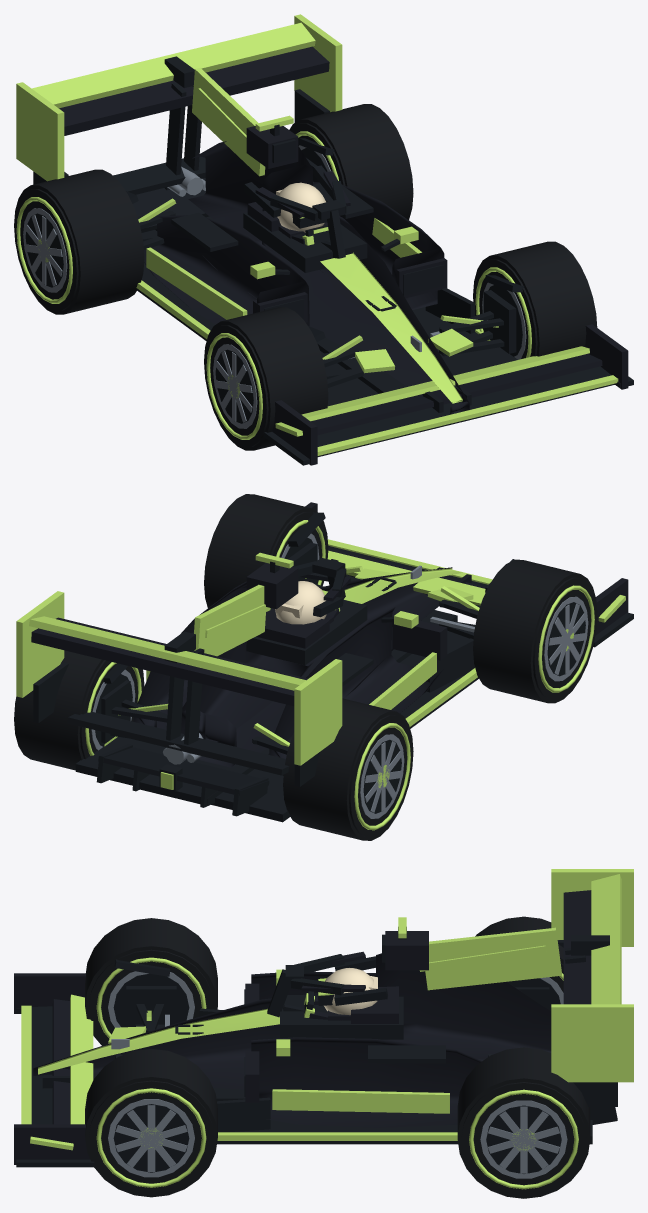
The model's file is baxter-00.glb.
The picture shows the model from 3 angles, top to bottom: view 1: azimuth 30°, elevation 25°; view 2: azimuth 150°, elevation 25°; view 3: azimuth 270°, elevation 25°; orthographic projection.
Parts seen in each view (by area): view 1: formula-0, wheel (×4); view 2: formula-0, wheel (×4); view 3: formula-0, wheel (×4).
Part boxes in pixels (box(x1,y1,x2,y2)): formula-0: box(16, 14, 633, 465); wheel (×4): box(14, 104, 597, 450); formula-0: box(16, 502, 633, 822); wheel (×4): box(14, 494, 597, 840); formula-0: box(14, 869, 633, 1167); wheel (×4): box(85, 916, 590, 1198).
Size of the model in its own units: 3.41 by 1.85 by 5.41.
